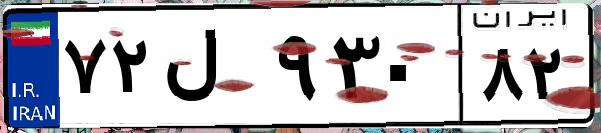0: (385, 28, 445, 110)
2: (525, 38, 570, 115), (110, 28, 158, 98)
3: (330, 28, 385, 110)
7: (57, 26, 110, 100)
8: (475, 38, 525, 113)
9: (270, 28, 330, 110)
ل: (158, 20, 270, 120)
